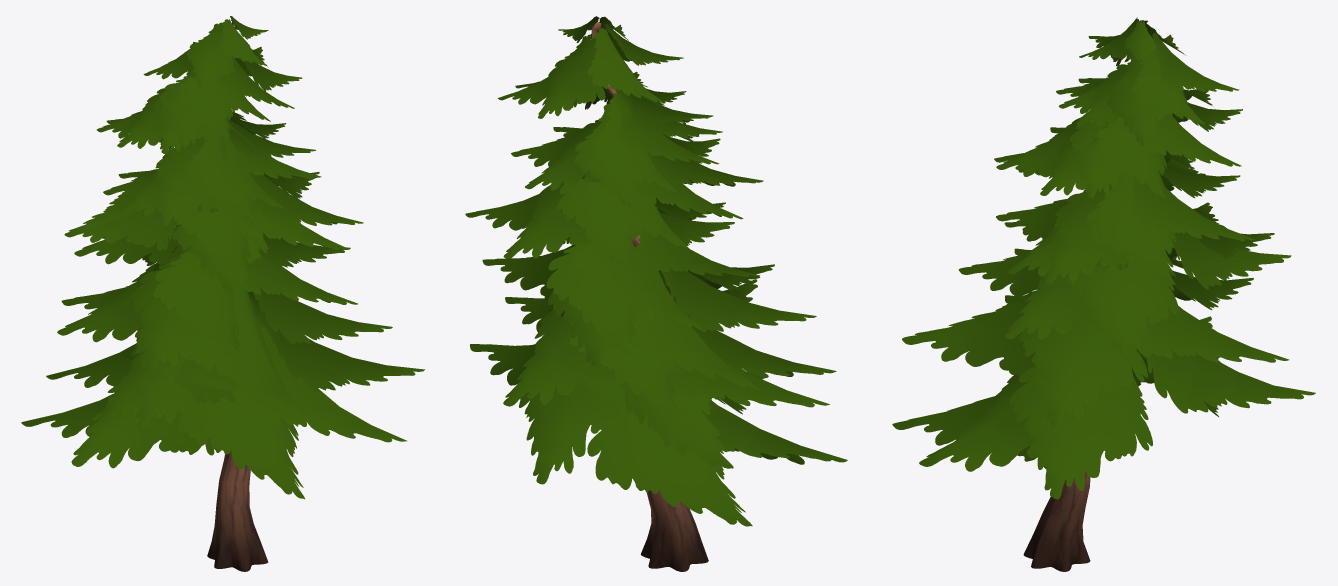
Rendered from Pine_5.gltf.
3 renders of one model, left to right at view 1: azimuth 30°, elevation 25°; view 2: azimuth 150°, elevation 25°; view 3: azimuth 270°, elevation 25°, orthographic. The views are drawn at different scales.
Visible parts, largest first — view 1: Pine_5; view 2: Pine_5; view 3: Pine_5.
Part boxes in pixels (x1,y1,x2,y2): Pine_5: [21, 16, 424, 571]; Pine_5: [465, 16, 847, 571]; Pine_5: [892, 17, 1315, 571].
Bounding box in the file's own units: 6.42 × 8.72 × 6.22.
2 materials, 2 textured.
